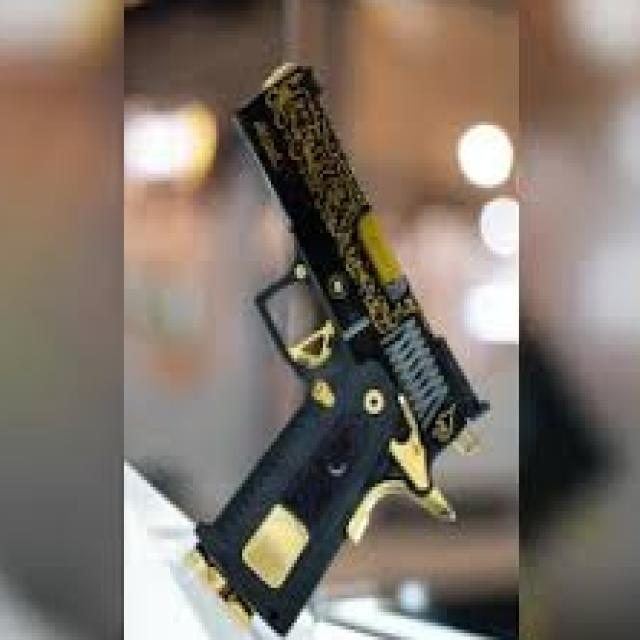Gun: (190, 24, 482, 640)
